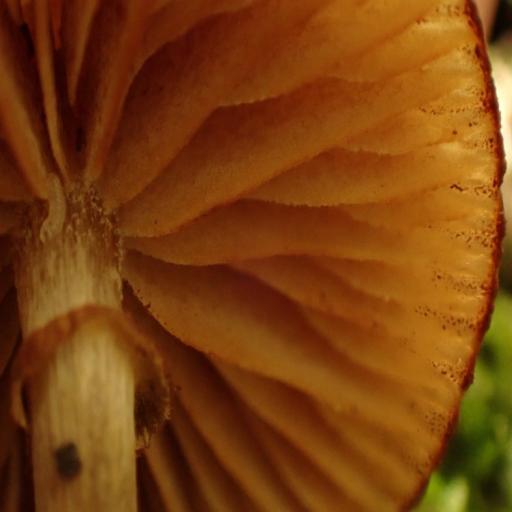mushroom: (0, 1, 505, 510)
